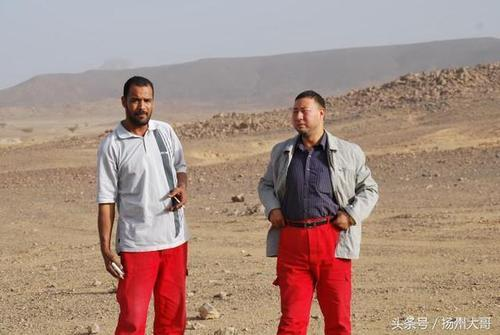up: (254, 77, 378, 335), (93, 72, 202, 330)
